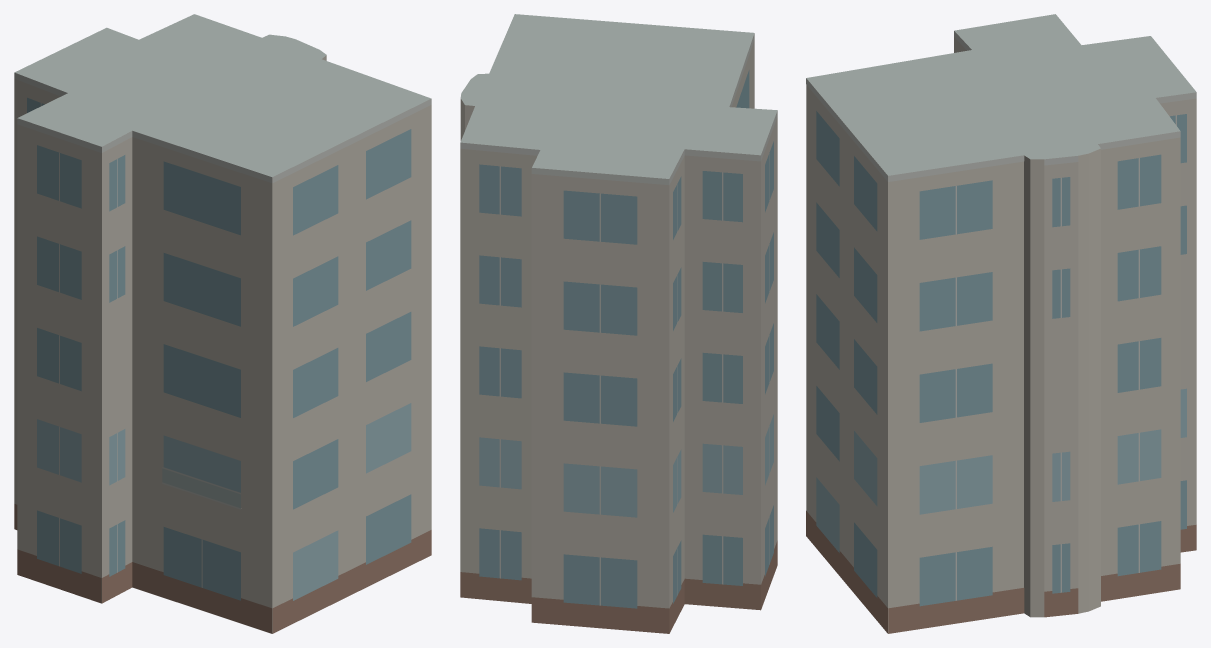
Rendered from survey-upis-32474094.glb.
3 renders of one model, left to right at view 1: azimuth 30°, elevation 25°; view 2: azimuth 150°, elevation 25°; view 3: azimuth 270°, elevation 25°, orthographic.
Visible parts, largest first — view 1: survey-upis-32474094.tmp; view 2: survey-upis-32474094.tmp; view 3: survey-upis-32474094.tmp.
Boxes of the visible parts, box(x1,y1,x2,y2) form: survey-upis-32474094.tmp: box(14, 14, 431, 633); survey-upis-32474094.tmp: box(460, 14, 777, 633); survey-upis-32474094.tmp: box(806, 14, 1196, 633).
Bounding box in the file's own units: 13.65 × 18 × 13.92.
